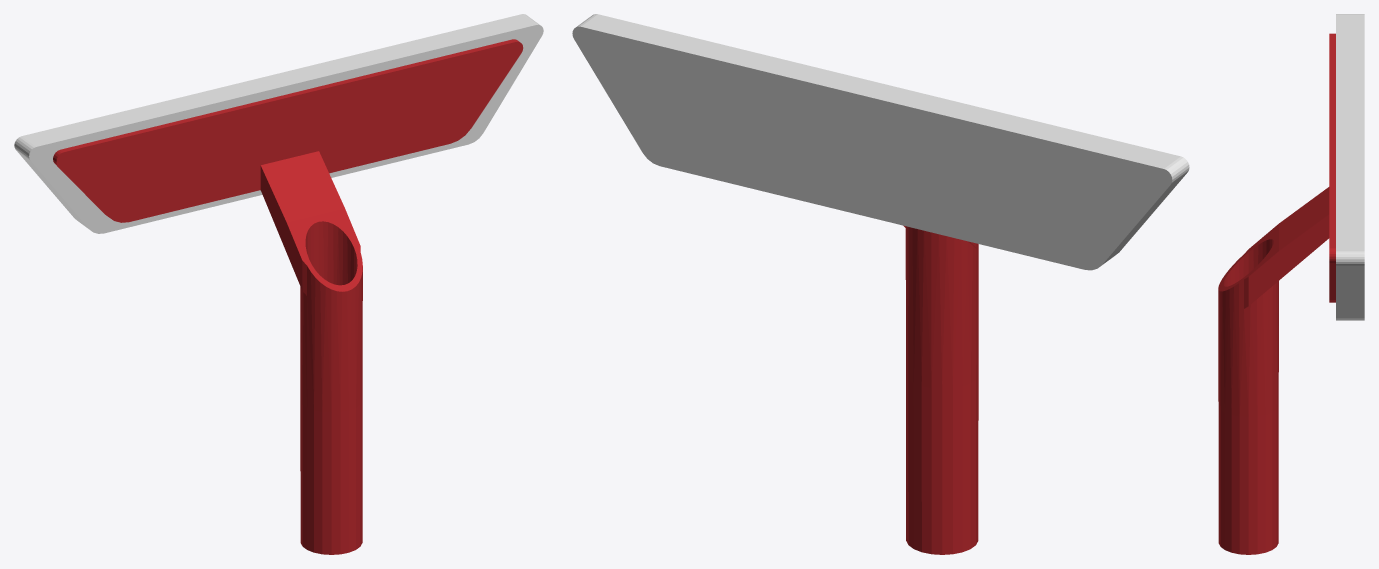
Rendered from Wischer.obj.
3 views of the same model, side by side, from view 1: azimuth 30°, elevation 25°; view 2: azimuth 150°, elevation 25°; view 3: azimuth 270°, elevation 25° (orthographic). The views are drawn at different scales.
Parts seen in each view (by area): view 1: Wischer_Wischer2, Tuch_Tuch3; view 2: Tuch_Tuch3, Wischer_Wischer2; view 3: Wischer_Wischer2, Tuch_Tuch3.
Boxes of the visible parts, box(x1,y1,x2,y2) form: Wischer_Wischer2: box(53, 39, 523, 554); Tuch_Tuch3: box(14, 14, 543, 233); Tuch_Tuch3: box(572, 14, 1189, 270); Wischer_Wischer2: box(903, 225, 978, 554); Wischer_Wischer2: box(1218, 33, 1335, 554); Tuch_Tuch3: box(1336, 14, 1364, 320).
Bounding box in the file's own units: 0.2821 × 0.2215 × 0.0718.
1 material, 1 textured.
